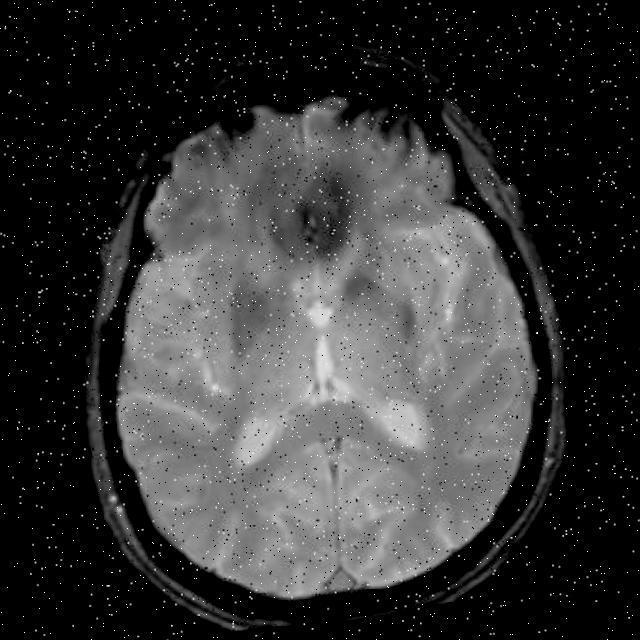MCI: (272, 173, 372, 286)
